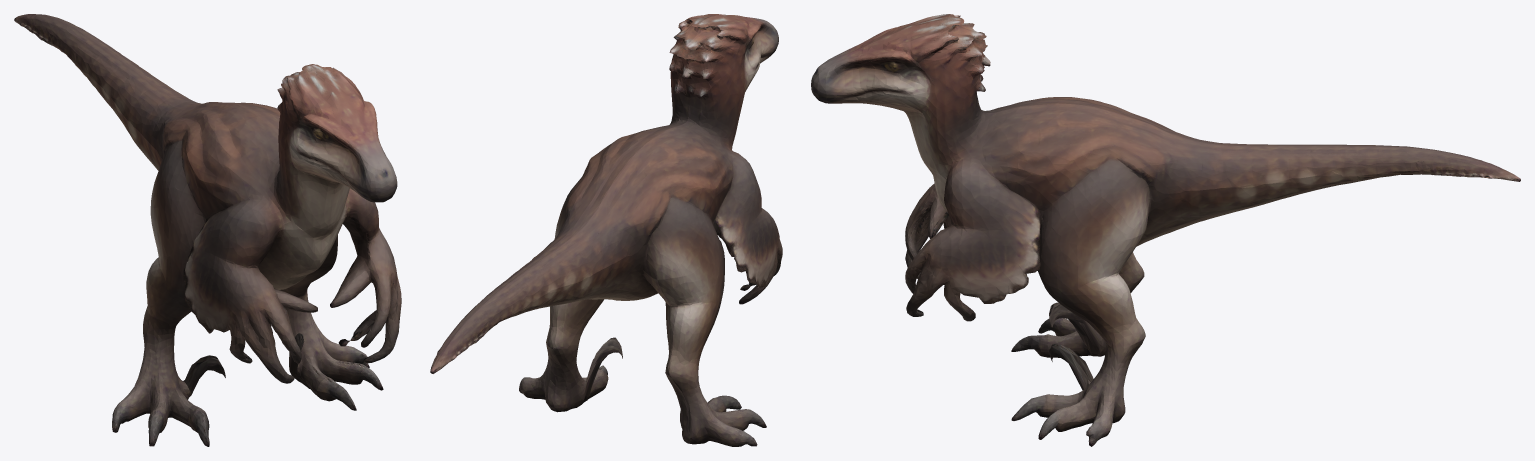
3 views of the same model, side by side, from view 1: azimuth 30°, elevation 25°; view 2: azimuth 150°, elevation 25°; view 3: azimuth 270°, elevation 25° (orthographic). The views are drawn at different scales.
Visible parts, largest first — view 1: world; view 2: world; view 3: world.
Part boxes in pixels (x1=…): world: x1=14, y1=14, x2=401, y2=446; world: x1=430, y1=14, x2=782, y2=446; world: x1=811, y1=14, x2=1520, y2=446.
Size of the model in its own units: 2.62 by 3.73 by 6.5.
1 material, 1 textured.
